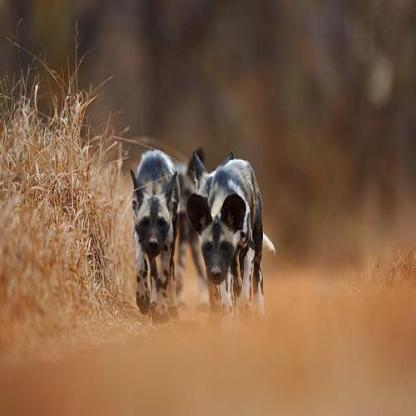African_hunting_dog: (186, 154, 266, 326), (126, 145, 180, 313)
